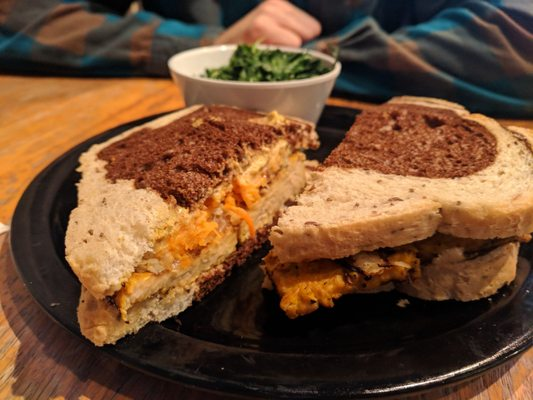soup: (260, 98, 533, 319)
sushi: (167, 42, 342, 129)
